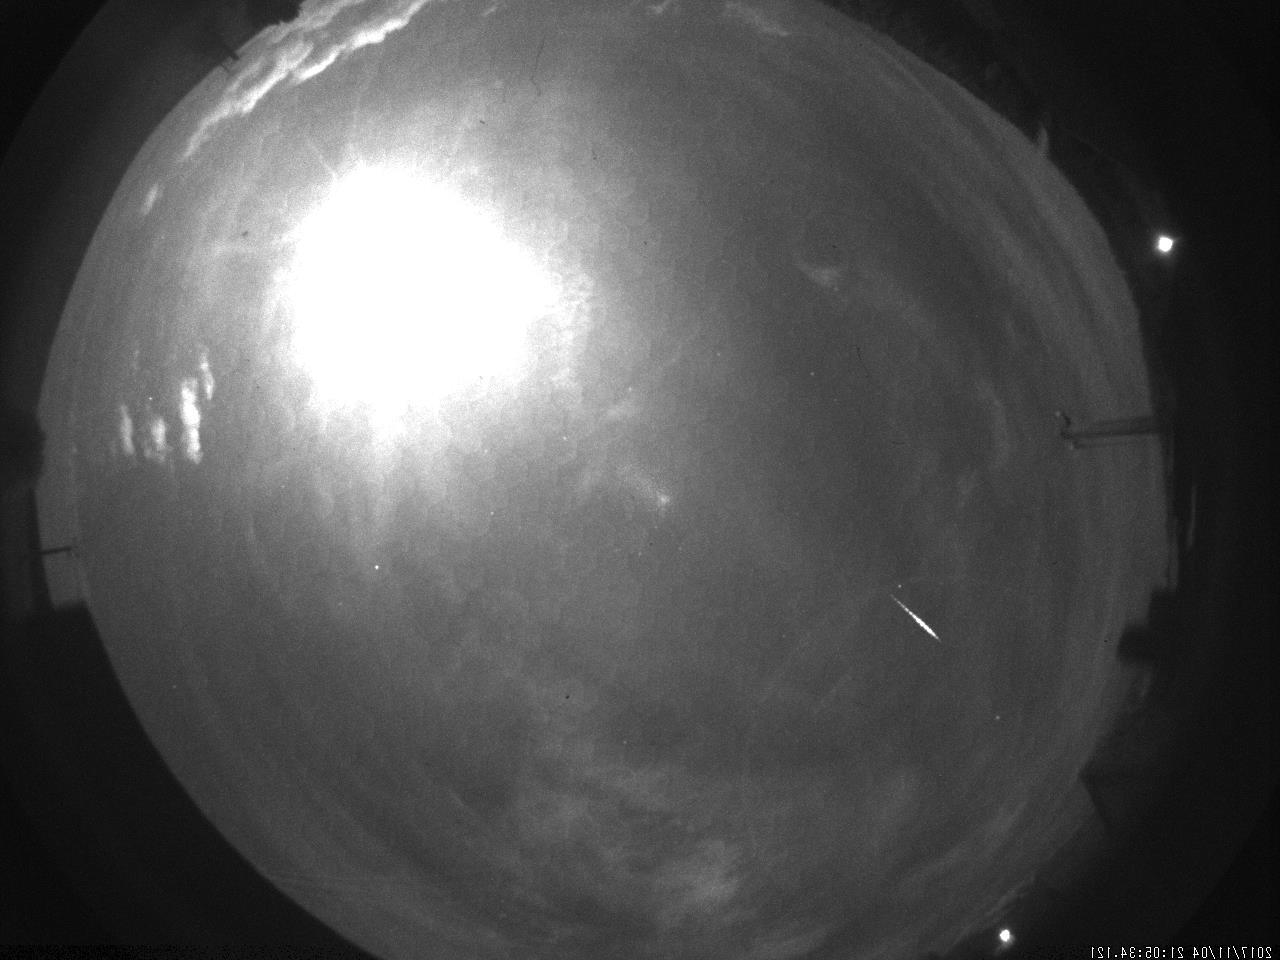meteor: (882, 588, 953, 654)
